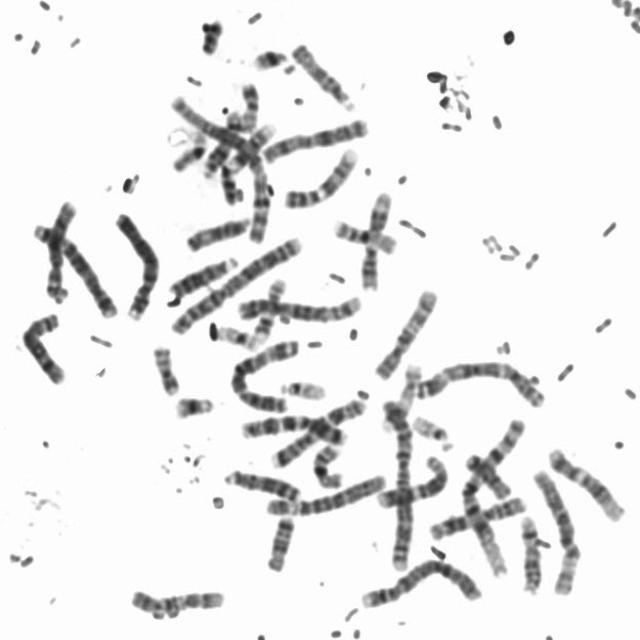A1: (167, 87, 272, 245), (456, 412, 529, 582)
A2: (166, 230, 305, 337), (377, 390, 416, 573)
A3: (409, 353, 549, 409), (225, 332, 300, 416)
B4: (358, 553, 486, 610), (108, 207, 160, 321)
B5: (26, 218, 120, 318), (232, 288, 364, 324)
C10: (370, 282, 440, 382), (124, 582, 227, 618)
C11: (424, 490, 528, 542), (356, 186, 396, 292)
C12: (544, 441, 628, 524), (372, 449, 452, 510)
C6: (528, 462, 585, 598), (261, 468, 389, 518)
C7: (266, 392, 369, 469), (236, 408, 351, 446)
C8: (39, 194, 80, 303), (16, 306, 68, 386)
C9: (278, 140, 362, 210), (216, 117, 280, 206)
D13: (162, 250, 240, 300), (219, 463, 303, 503)
D14: (200, 102, 249, 180), (515, 510, 545, 595)
D15: (287, 36, 358, 113), (182, 210, 253, 253)
E16: (328, 213, 399, 256), (307, 438, 346, 490)
E17: (377, 358, 424, 434), (249, 274, 290, 344)
E18: (461, 447, 515, 502), (262, 510, 297, 573)
F19: (167, 124, 210, 174), (214, 319, 260, 352)
F20: (148, 340, 182, 397), (234, 77, 261, 133)
G21: (248, 41, 298, 76), (169, 390, 216, 420)
G22: (408, 410, 456, 451), (274, 374, 329, 400)
X: (256, 112, 372, 165)
Y: (197, 13, 226, 56)
